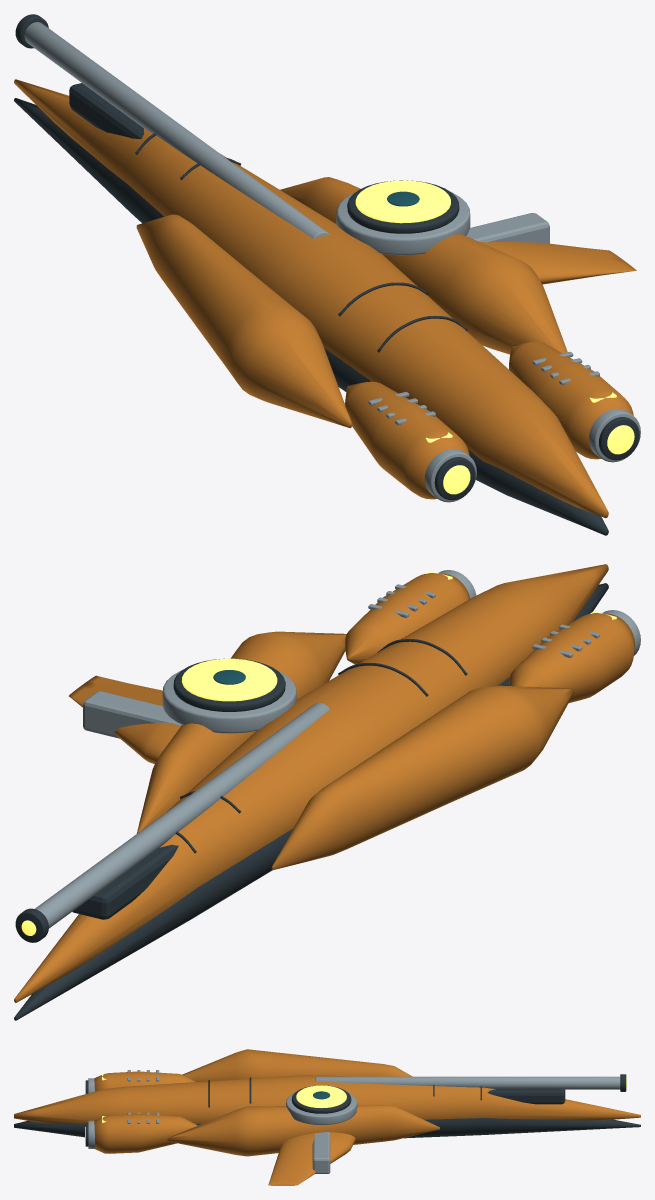
File: boss-4.glb
3 renders of one model, top to bottom at view 1: azimuth 30°, elevation 25°; view 2: azimuth 150°, elevation 25°; view 3: azimuth 270°, elevation 25°, orthographic. The views are drawn at different scales.
Parts seen in each view (by area): view 1: SM_Hull, SM_Weapon_Right, SM_Engine_Left, SM_Engine_Right, SM_Wing_Right; view 2: SM_Hull, SM_Weapon_Right, SM_Engine_Left, SM_Engine_Right, SM_Wing_Right; view 3: SM_Hull, SM_Weapon_Right, SM_Engine_Right, SM_Wing_Right, SM_Engine_Left.
Part boxes in pixels (x1,y1,x2,y2): SM_Hull: (14, 79, 608, 535); SM_Weapon_Right: (15, 14, 329, 238); SM_Engine_Left: (345, 381, 476, 502); SM_Engine_Right: (509, 341, 640, 462); SM_Wing_Right: (480, 242, 636, 284); SM_Hull: (14, 564, 608, 1020); SM_Weapon_Right: (15, 702, 329, 942); SM_Engine_Left: (509, 610, 640, 702); SM_Engine_Right: (345, 570, 476, 664); SM_Wing_Right: (69, 675, 180, 764); SM_Hull: (14, 1049, 640, 1173); SM_Weapon_Right: (315, 1074, 627, 1104); SM_Engine_Right: (85, 1112, 197, 1153); SM_Wing_Right: (268, 1132, 355, 1185); SM_Engine_Left: (85, 1070, 195, 1093).
Size of the model in its own units: 4.39 by 1.2 by 10.6.
